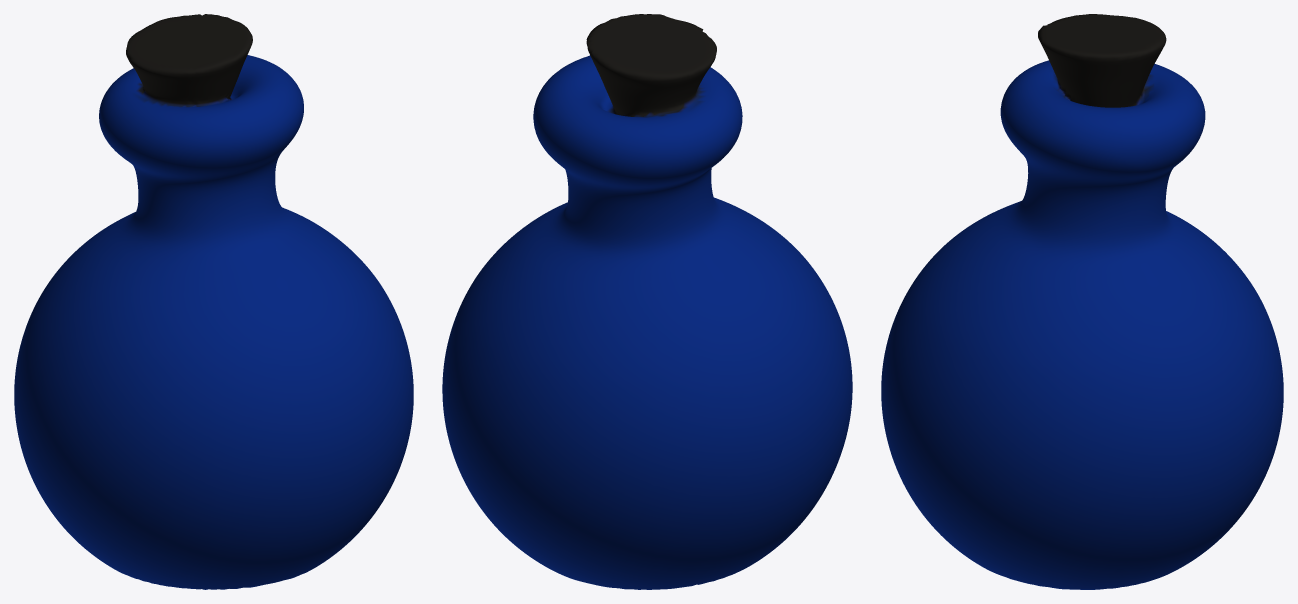
File: trankneu2.fbx
3 renders of one model, left to right at view 1: azimuth 30°, elevation 25°; view 2: azimuth 150°, elevation 25°; view 3: azimuth 270°, elevation 25°, orthographic.
Parts seen in each view (by area): view 1: ReferenceModel_Selection_4; view 2: ReferenceModel_Selection_4; view 3: ReferenceModel_Selection_4.
Part boxes in pixels (box(x1,y1,x2,y2)): ReferenceModel_Selection_4: box(14, 14, 413, 589); ReferenceModel_Selection_4: box(442, 14, 852, 589); ReferenceModel_Selection_4: box(881, 14, 1283, 589).
Size of the model in its own units: 33.83 by 46.94 by 33.85.
